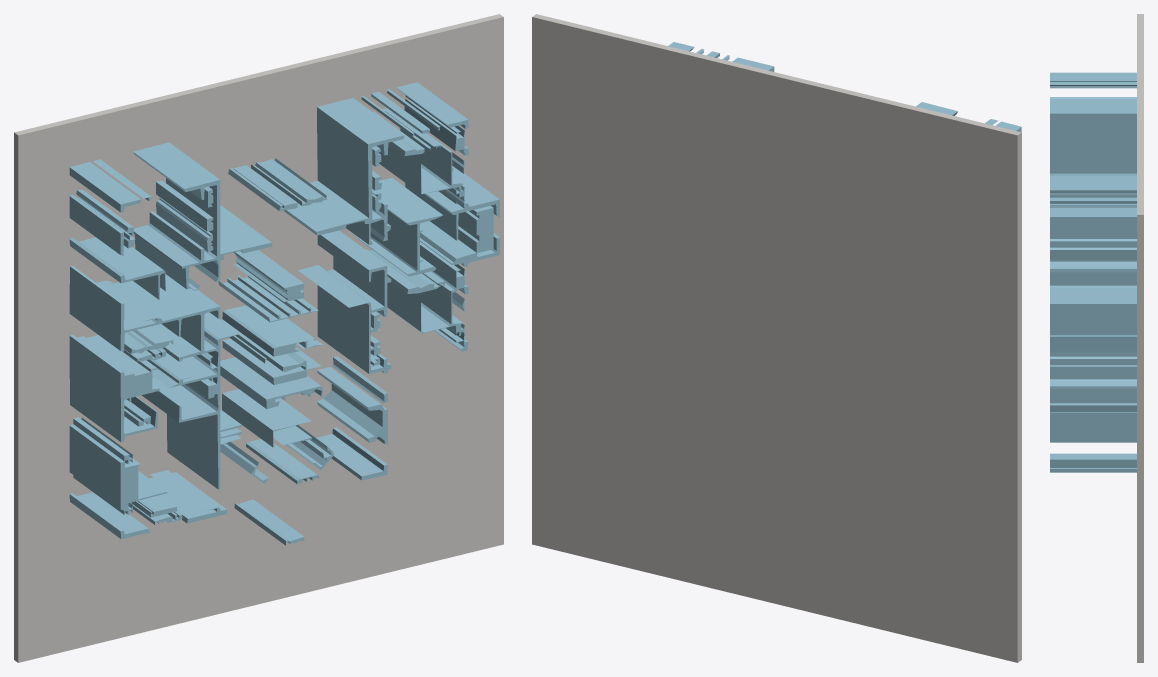
The picture shows the model from 3 angles, left to right: view 1: azimuth 30°, elevation 25°; view 2: azimuth 150°, elevation 25°; view 3: azimuth 270°, elevation 25°; orthographic projection. The views are drawn at different scales.
Visible parts, largest first — view 1: world; view 2: world; view 3: world.
Part boxes in pixels (left/top/right/bottom): world: left=14, top=14, right=503, bottom=662; world: left=532, top=14, right=1021, bottom=662; world: left=1050, top=14, right=1143, bottom=662.
Bounding box in the file's own units: 10.23 × 10.62 × 2.02.
